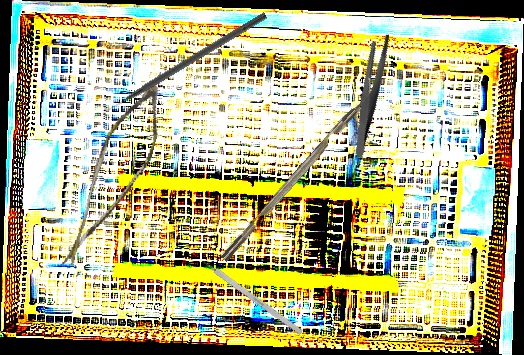Chopper: (211, 76, 383, 262)
Dressing Forceps: (323, 29, 417, 159)
Hook Surgical: (99, 10, 268, 118), (192, 252, 304, 336)
Micro Scissor: (60, 74, 170, 285)
